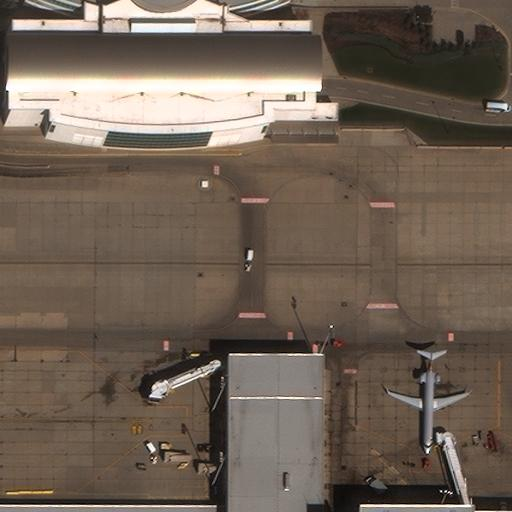Medium Civil Transport: (387, 350, 469, 454)
